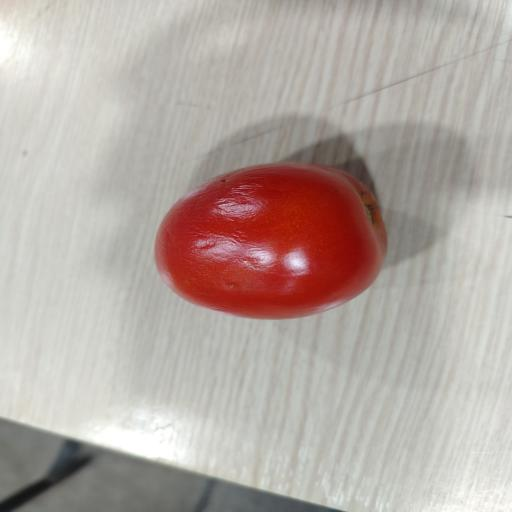spoiled: (155, 162, 387, 319)
